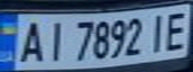2: (124, 14, 148, 56)
7: (69, 17, 93, 62)
8: (90, 17, 112, 61)
9: (109, 16, 130, 60)
A: (12, 17, 48, 64)
E: (160, 7, 193, 52)
I: (39, 17, 69, 64), (145, 9, 172, 54)
